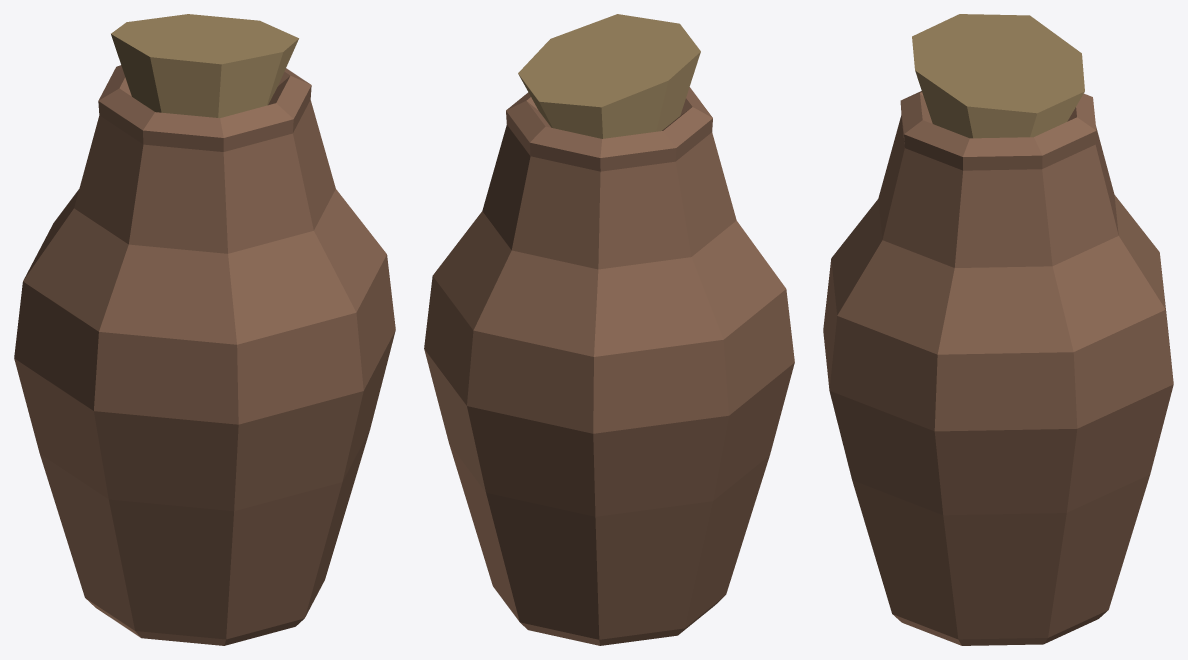
Rendered from Pot_1.fbx.
3 renders of one model, left to right at view 1: azimuth 30°, elevation 25°; view 2: azimuth 150°, elevation 25°; view 3: azimuth 270°, elevation 25°, orthographic. The views are drawn at different scales.
Parts seen in each view (by area): view 1: polySurface1523; view 2: polySurface1523; view 3: polySurface1523.
Part boxes in pixels (box(x1,y1,x2,y2)): polySurface1523: box(14, 14, 395, 645); polySurface1523: box(424, 14, 794, 645); polySurface1523: box(823, 14, 1173, 645).
Size of the model in its own units: 26.29 by 45.86 by 26.29.
